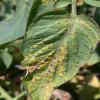Tomato leaf bacterial spot: (21, 7, 98, 100)
